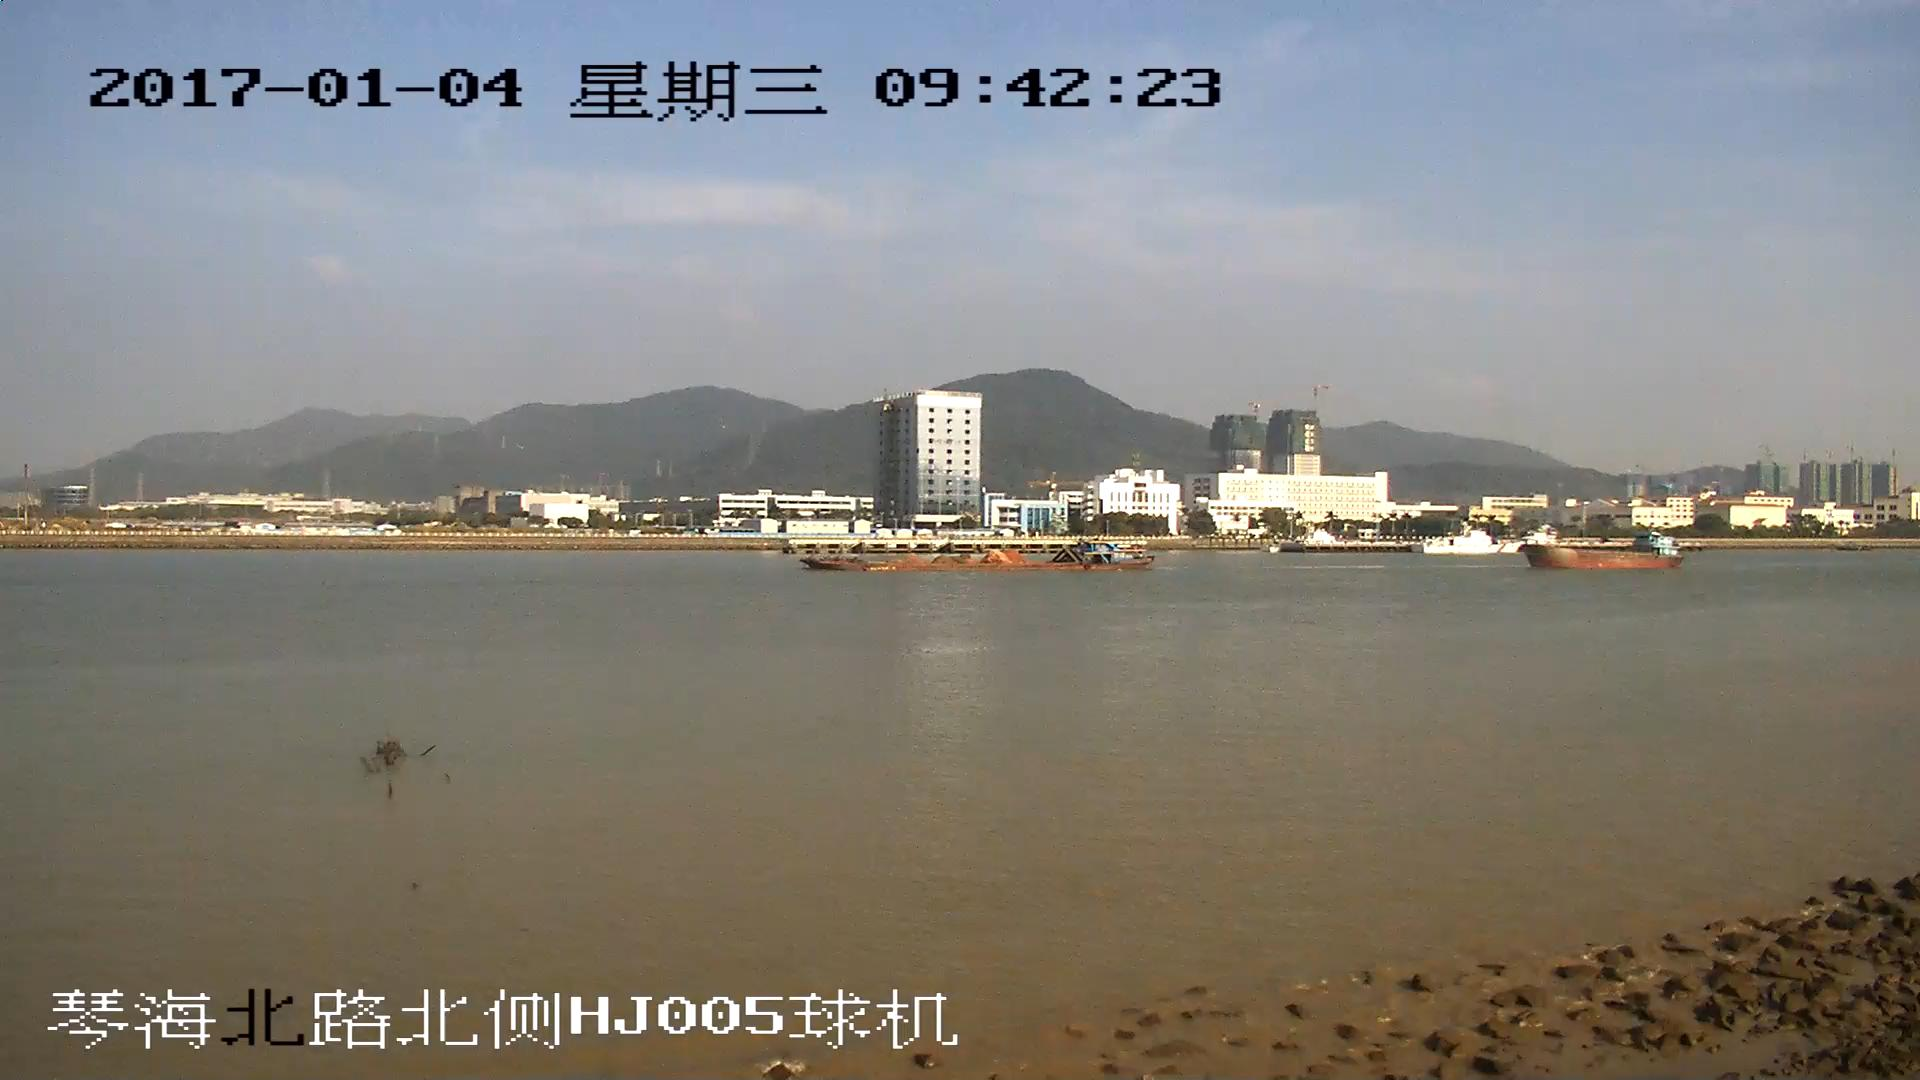bulk cargo carrier: (1526, 532, 1680, 571)
ore carrier: (808, 540, 1151, 572)
